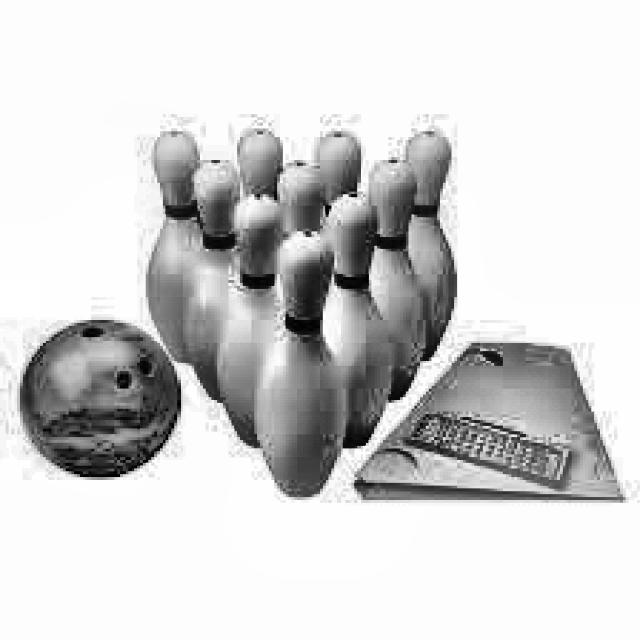bowling-ball: (20, 320, 180, 479)
bowling-pins: (257, 231, 346, 499), (323, 194, 394, 447), (221, 197, 286, 447), (183, 160, 243, 399), (368, 160, 426, 399), (146, 131, 200, 367), (406, 131, 460, 362), (311, 131, 360, 207), (237, 129, 283, 199), (280, 163, 323, 236)
